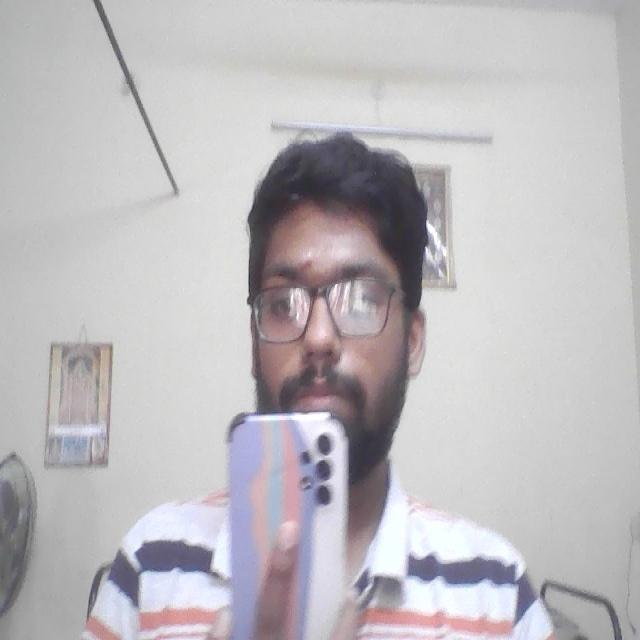Mobile: (219, 407, 351, 640)
